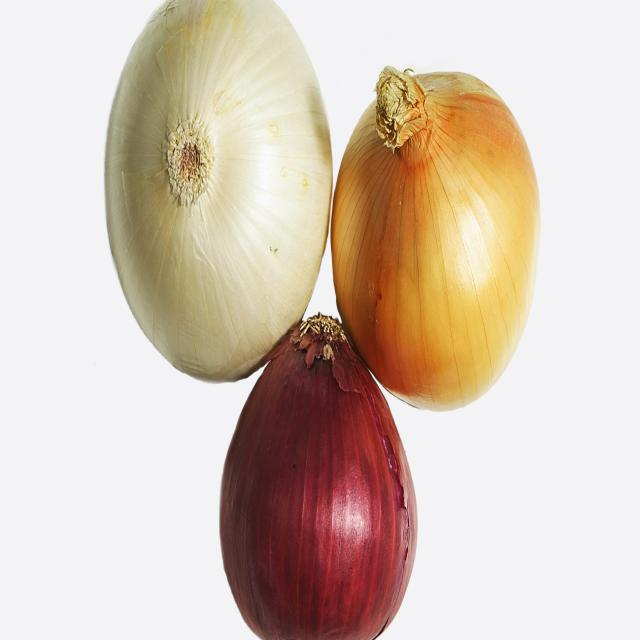onion: (102, 0, 334, 384), (330, 68, 540, 410), (219, 314, 420, 640)
